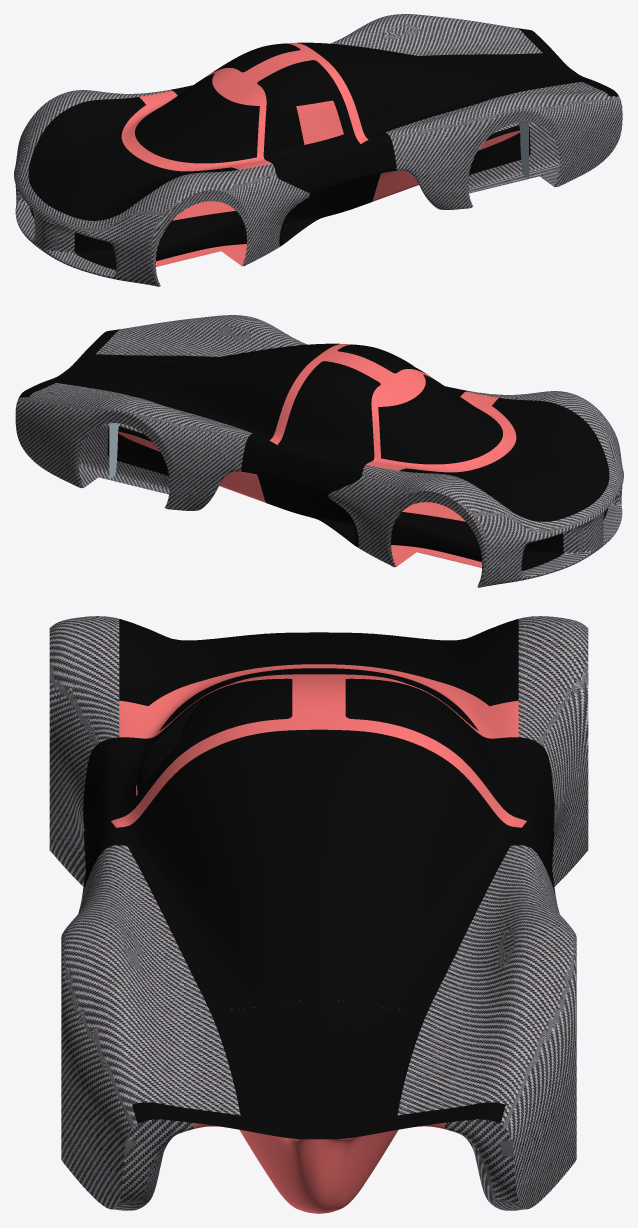
File: Aeroshell.glb
The picture shows the model from 3 angles, top to bottom: view 1: azimuth 30°, elevation 25°; view 2: azimuth 150°, elevation 25°; view 3: azimuth 270°, elevation 25°; orthographic projection. The views are drawn at different scales.
Visible parts, largest first — view 1: RFAIR_L-1, HOOD-1, FFAIR_L-1, DOOR_DRIVER-1, WINDSHIELD-1, DUCT_LTOP-1, TRUNK-1, A_B_PILLAR-1, BUMPER-1, RFAIR_RTOP-1, WINDOW_REAR-1, TRUNK_HATCH-1 (+11 smaller); view 2: RFAIR_R-1, HOOD-1, FFAIR_R-1, WINDSHIELD-1, DOOR_PASSENGER-1, DUCT_RTOP-1, TRUNK-1, A_B_PILLAR-1, BUMPER-1, RFAIR_LTOP-1, WINDOW_REAR-1, WINDOW_PASSENGER-1 (+11 smaller); view 3: TRUNK-1, WINDOW_REAR-1, RFAIR_RTOP-1, RFAIR_LTOP-1, TRUNK_HATCH-1, HOOD-1, RFAIR_R-1, RFAIR_L-1, A_B_PILLAR-1, FFAIR_L-1, FFAIR_R-1, DOOR_DRIVER-1 (+7 smaller).
Boxes of the visible parts, <box> form: RFAIR_L-1: <box>390,96,622,207</box>; HOOD-1: <box>28,97,238,220</box>; FFAIR_L-1: <box>130,164,309,286</box>; DOOR_DRIVER-1: <box>257,60,365,192</box>; WINDSHIELD-1: <box>135,73,259,163</box>; DUCT_LTOP-1: <box>74,132,396,257</box>; TRUNK-1: <box>297,42,506,139</box>; A_B_PILLAR-1: <box>121,43,368,171</box>; BUMPER-1: <box>14,137,132,281</box>; RFAIR_RTOP-1: <box>331,14,542,55</box>; WINDOW_REAR-1: <box>356,57,472,129</box>; TRUNK_HATCH-1: <box>453,53,581,94</box>; RFAIR_R-1: <box>15,397,247,508</box>; HOOD-1: <box>399,398,609,521</box>; FFAIR_R-1: <box>328,465,507,587</box>; WINDSHIELD-1: <box>378,374,502,464</box>; DOOR_PASSENGER-1: <box>272,361,380,493</box>; DUCT_RTOP-1: <box>241,433,563,558</box>; TRUNK-1: <box>131,343,339,440</box>; A_B_PILLAR-1: <box>269,344,516,472</box>; BUMPER-1: <box>505,438,623,582</box>; RFAIR_LTOP-1: <box>96,316,306,356</box>; WINDOW_REAR-1: <box>165,358,281,430</box>; WINDOW_PASSENGER-1: <box>290,398,365,455</box>; TRUNK-1: <box>116,729,521,1009</box>; WINDOW_REAR-1: <box>141,771,496,979</box>; RFAIR_RTOP-1: <box>397,845,544,1115</box>; RFAIR_LTOP-1: <box>93,845,240,1115</box>; TRUNK_HATCH-1: <box>209,1000,428,1123</box>; HOOD-1: <box>119,619,518,706</box>; RFAIR_R-1: <box>444,847,576,1209</box>; RFAIR_L-1: <box>61,847,193,1209</box>; A_B_PILLAR-1: <box>111,664,526,827</box>; FFAIR_L-1: <box>49,616,119,886</box>; FFAIR_R-1: <box>518,616,588,886</box>; DOOR_DRIVER-1: <box>83,678,292,866</box>.
Size of the model in its own units: 4.73 by 1.1 by 2.06.
7 materials, 1 textured.
